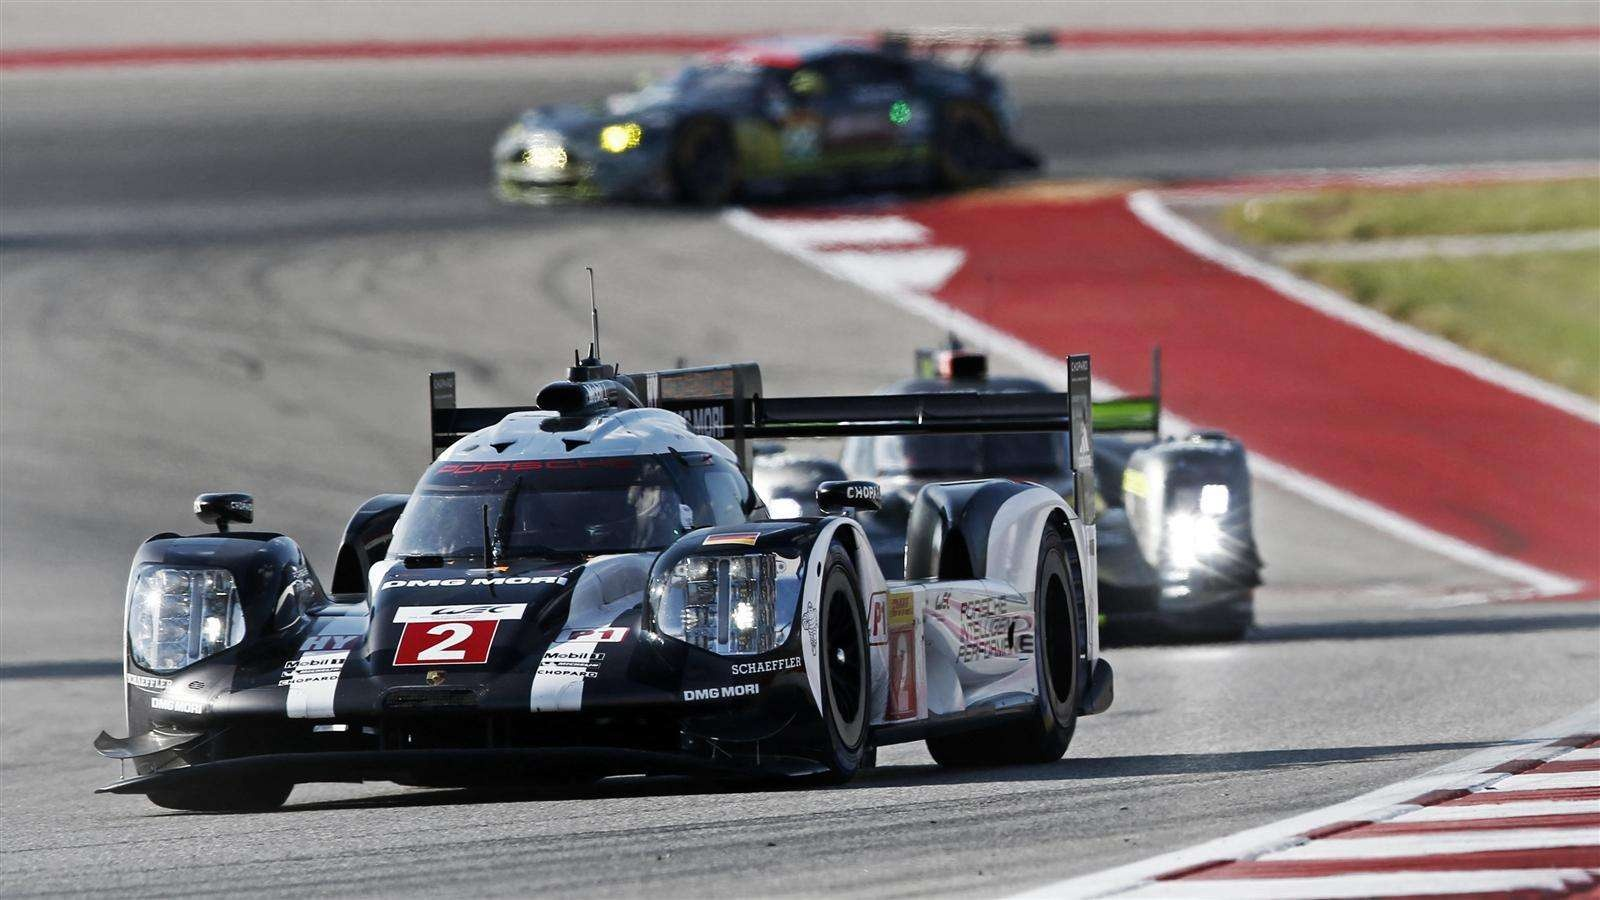racing car: (130, 318, 1095, 836), (464, 13, 1030, 216)
